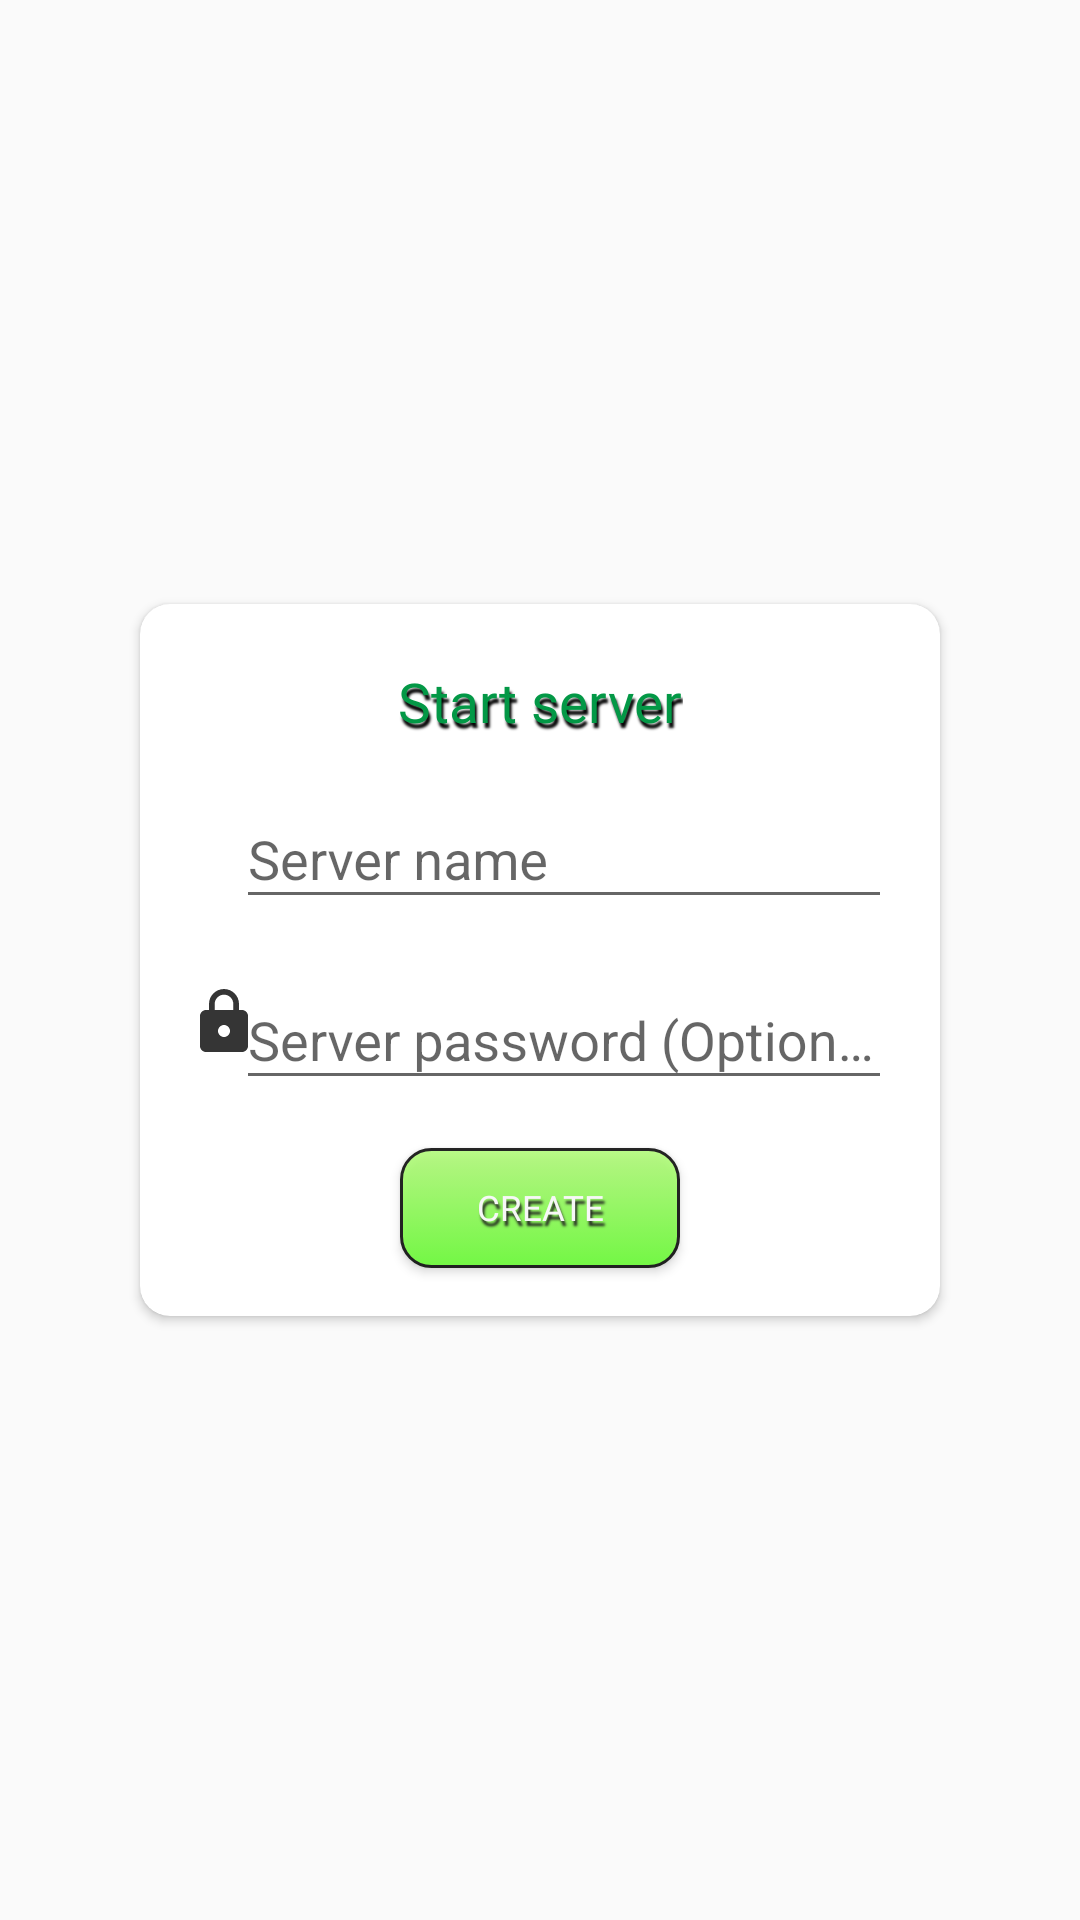

Icons on this 1080 × 1920 Android screen, each with the point to tap as point (x, y):
lock: point (224, 1020)
